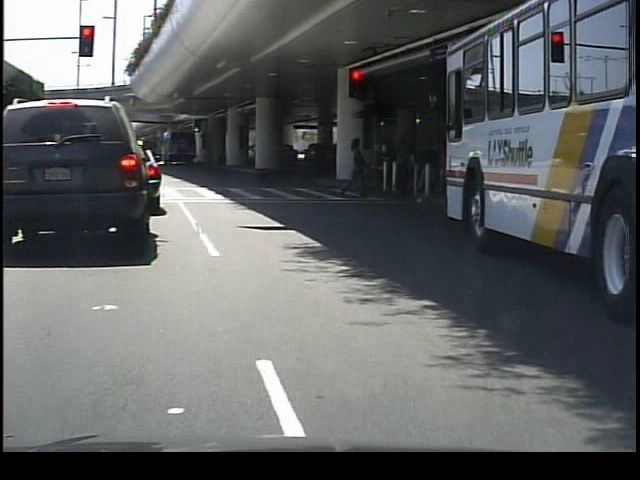person: (340, 136, 373, 202)
